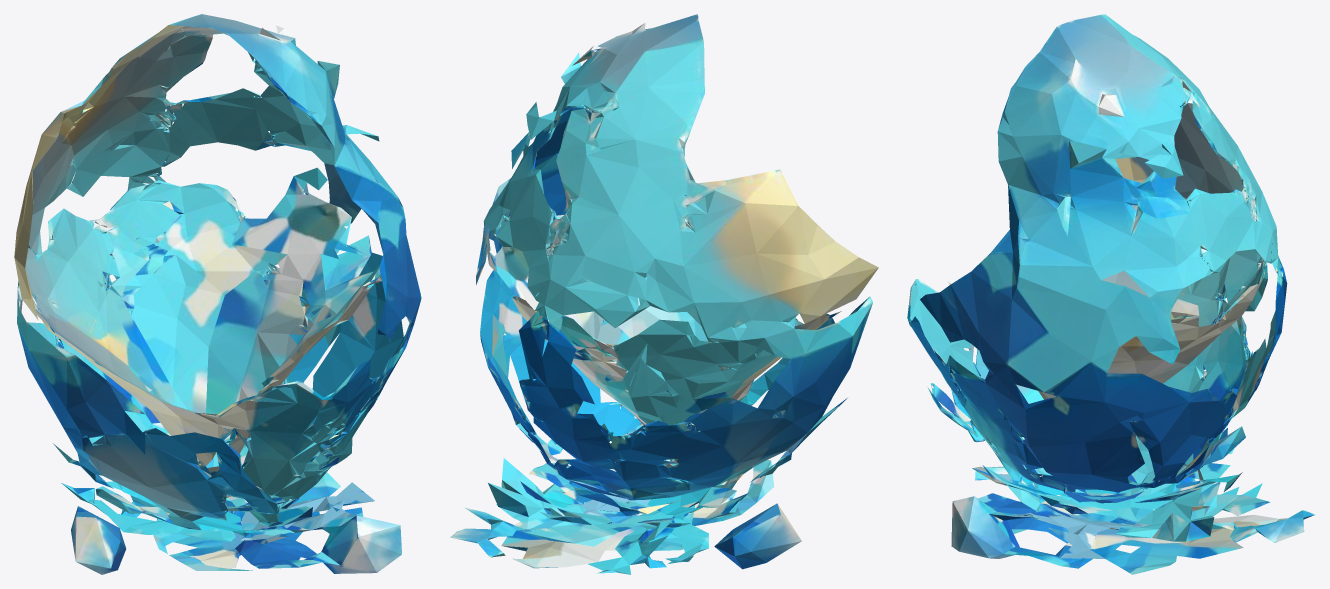
File: crystal_cluster.glb
3 views of the same model, side by side, from view 1: azimuth 30°, elevation 25°; view 2: azimuth 150°, elevation 25°; view 3: azimuth 270°, elevation 25° (orthographic). The views are drawn at different scales.
Visible parts, largest first — view 1: tmpp_3njvxo.ply; view 2: tmpp_3njvxo.ply; view 3: tmpp_3njvxo.ply.
Part boxes in pixels (x1,y1,x2,y2): tmpp_3njvxo.ply: [14, 14, 421, 574]; tmpp_3njvxo.ply: [450, 14, 878, 574]; tmpp_3njvxo.ply: [907, 14, 1314, 574].
Size of the model in its own units: 1.47 by 2 by 1.49.
1 material, 1 textured.
